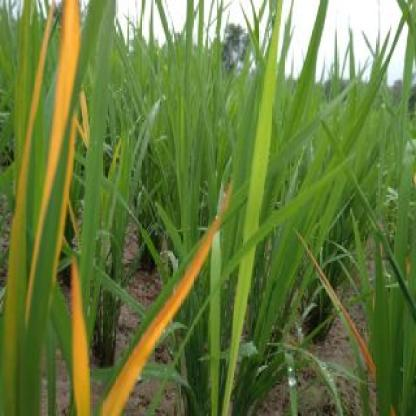Tungro: (15, 9, 86, 344)
